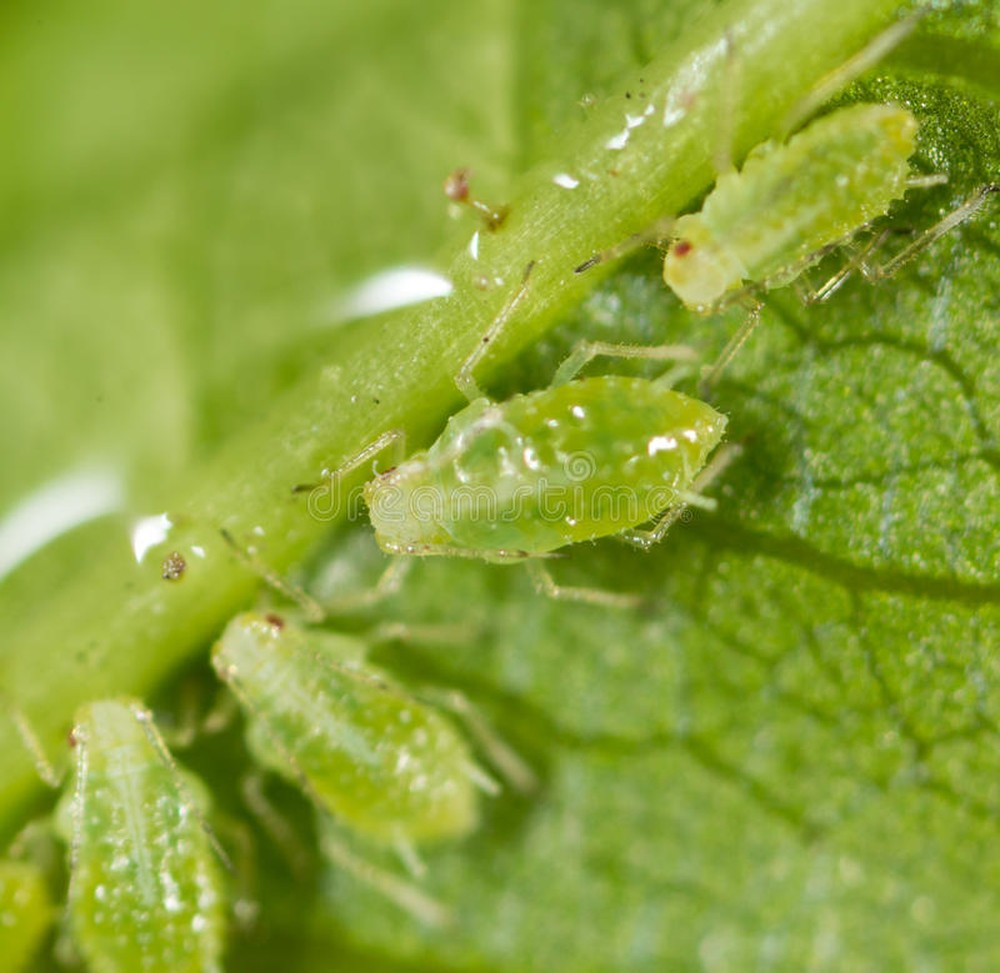Pulgon: (306, 304, 803, 639), (171, 534, 572, 945), (624, 57, 991, 316), (13, 659, 276, 965)
